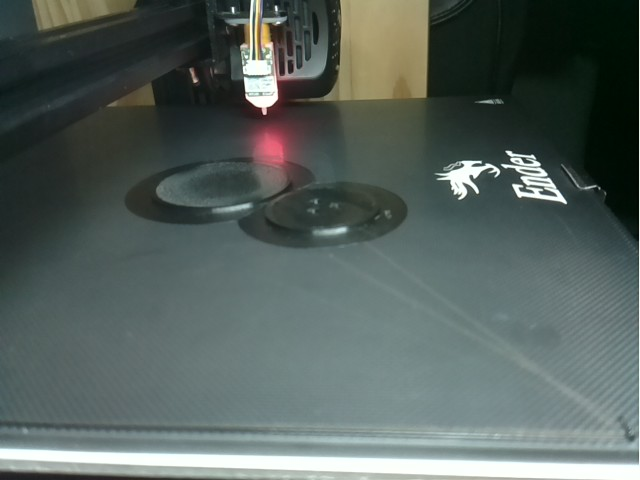left: (149, 135, 284, 214)
right: (257, 174, 393, 247)
